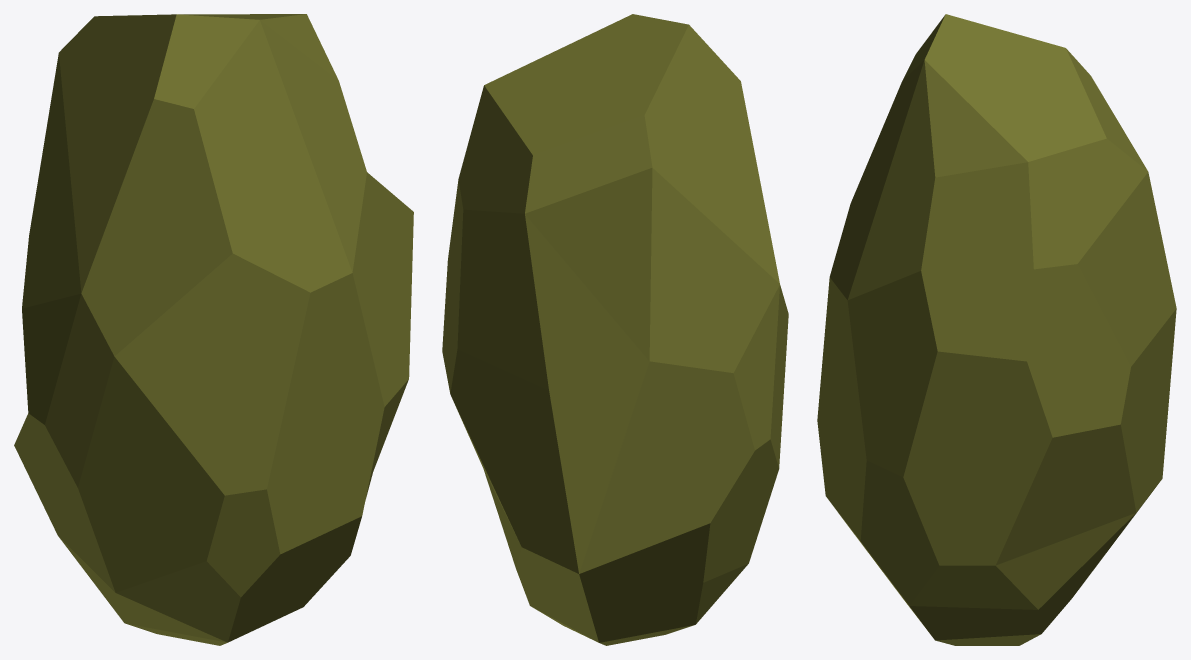
The model's file is Rock.fbx.
3 views of the same model, side by side, from view 1: azimuth 30°, elevation 25°; view 2: azimuth 150°, elevation 25°; view 3: azimuth 270°, elevation 25° (orthographic). The views are drawn at different scales.
Parts seen in each view (by area): view 1: Icosphere.007; view 2: Icosphere.007; view 3: Icosphere.007.
Boxes of the visible parts, x1,y1,x2,y2 form: Icosphere.007: (14,14,413,645); Icosphere.007: (442,14,788,645); Icosphere.007: (817,14,1176,645).
Size of the model in its own units: 178 by 316 by 175.
